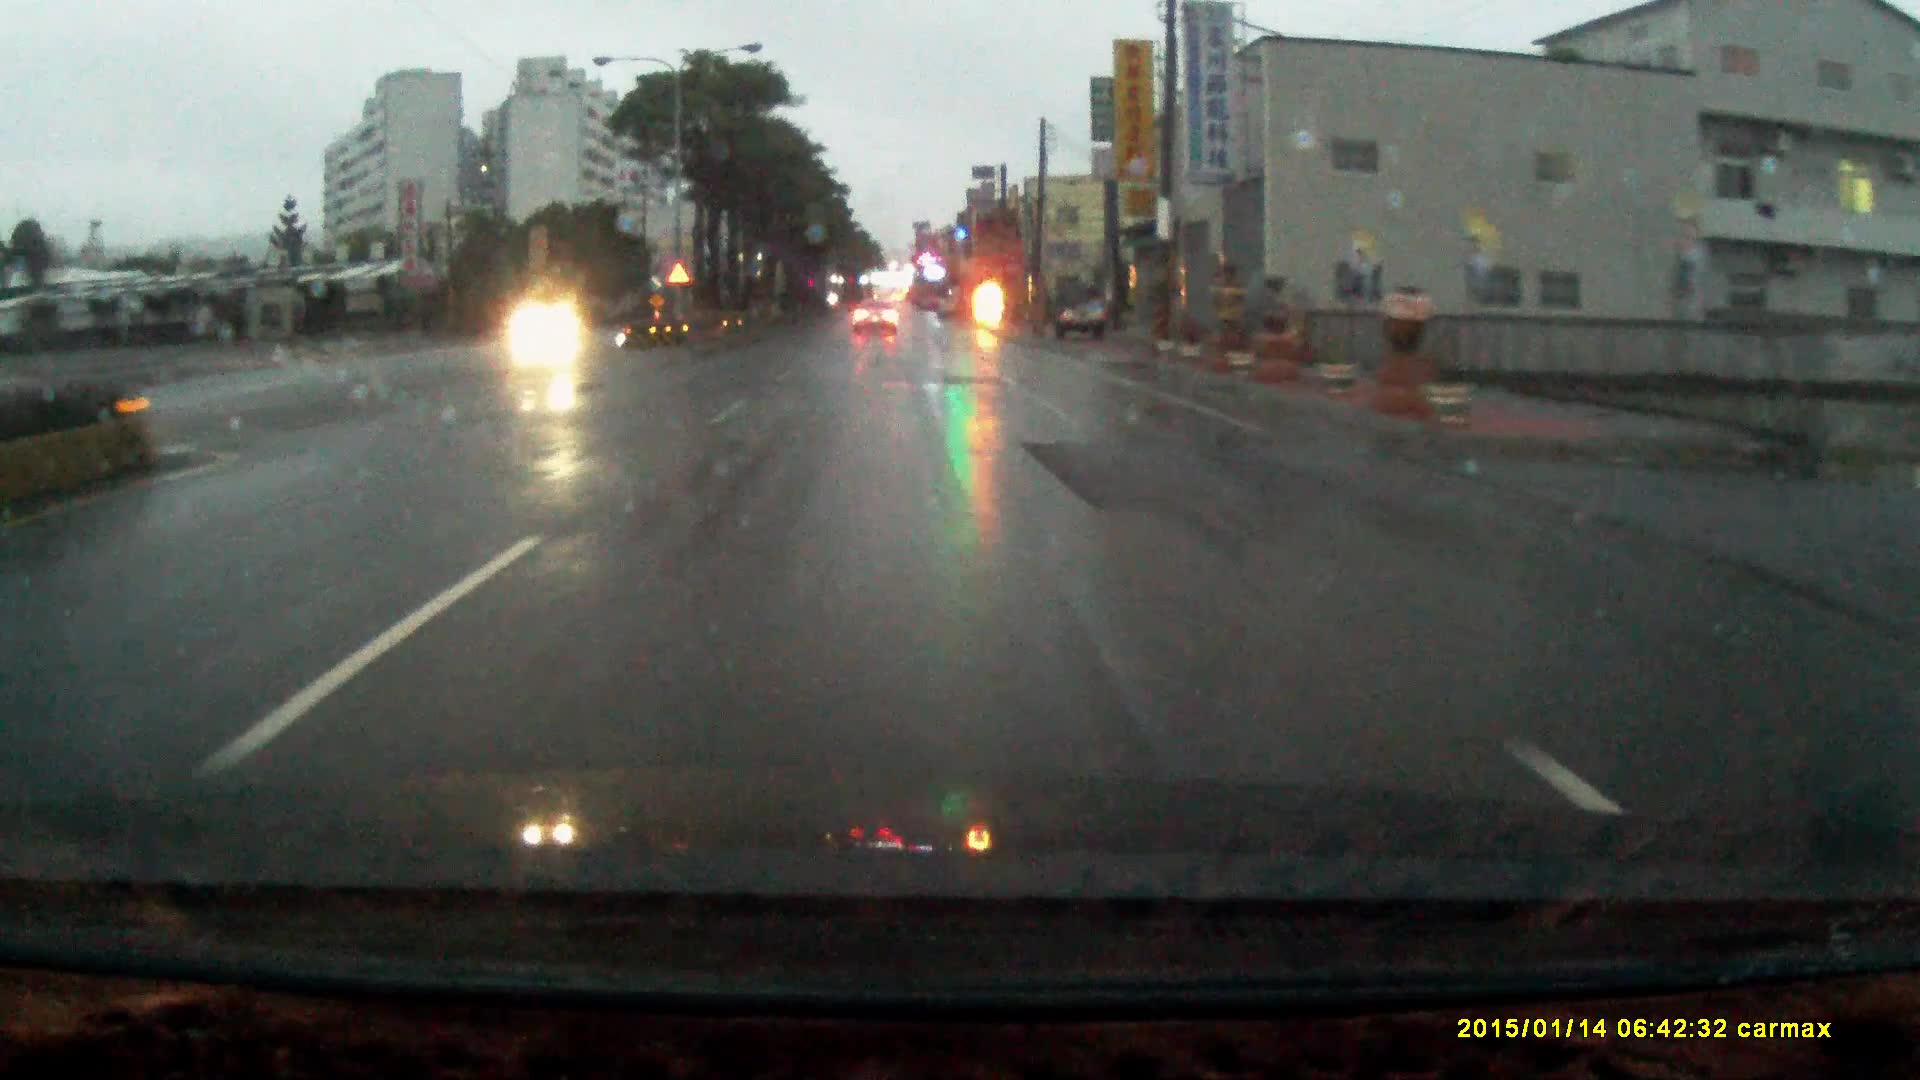vehicle: (1058, 286, 1114, 343), (853, 303, 902, 339)
